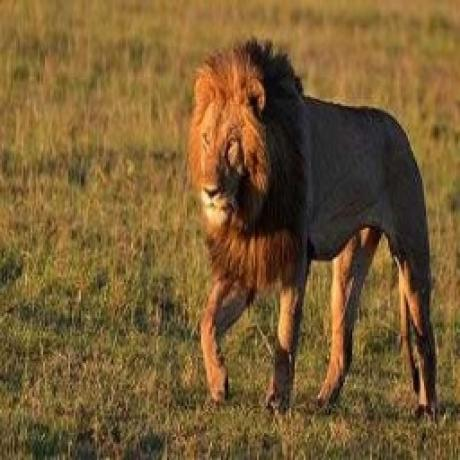Lion: (188, 35, 441, 419)
